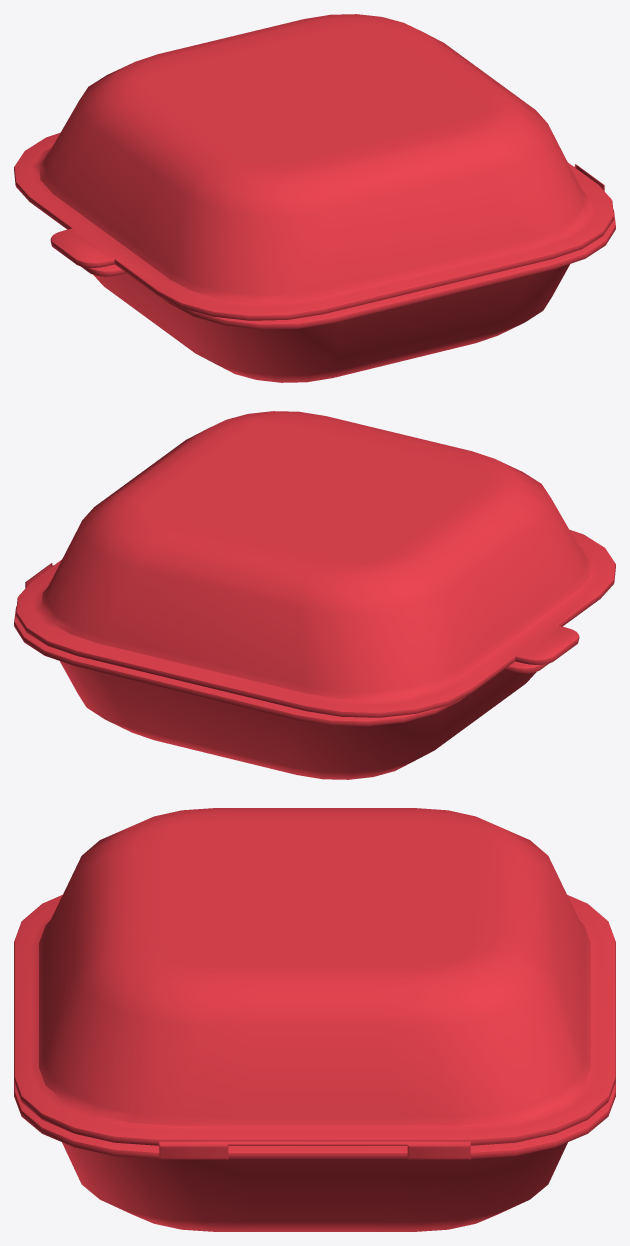
Rendered from burger_stack_revize.fbx.
3 renders of one model, top to bottom at view 1: azimuth 30°, elevation 25°; view 2: azimuth 150°, elevation 25°; view 3: azimuth 270°, elevation 25°, orthographic. The views are drawn at different scales.
Visible parts, largest first — view 1: burger_stack; view 2: burger_stack; view 3: burger_stack.
Part boxes in pixels (x1,y1,x2,y2): burger_stack: (14,14,615,382); burger_stack: (14,411,615,779); burger_stack: (14,808,615,1231).
Bounding box in the file's own units: 264 × 111 × 238.
